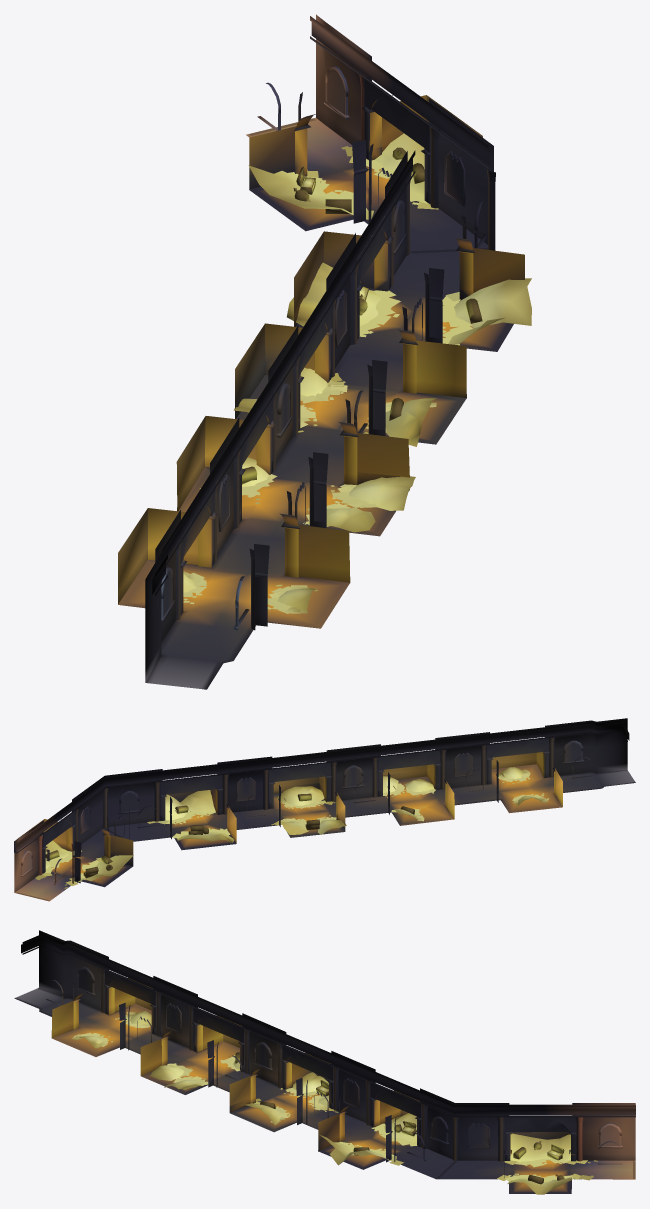
File: 15Hall.gltf
3 renders of one model, top to bottom at view 1: azimuth 30°, elevation 25°; view 2: azimuth 150°, elevation 25°; view 3: azimuth 270°, elevation 25°, orthographic. The views are drawn at different scales.
Visible parts, largest first — view 1: stg040_o49_Mesh_0010, stg040_o49_Mesh_0004, stg040_o49_Mesh_0009, stg040_o49_Mesh_0003, stg040_o49_Mesh_0011, stg040_o49_Mesh_0002, stg040_o49_Mesh_0008, stg040_o49_Mesh_0005, stg040_p49_Mesh_0000, stg040_o49_Mesh_0007, stg040_o49_Mesh_0006, stg040_o49_Mesh_0000; view 2: stg040_o49_Mesh_0010, stg040_o49_Mesh_0003, stg040_o49_Mesh_0009, stg040_o49_Mesh_0011, stg040_o49_Mesh_0005, stg040_o49_Mesh_0002, stg040_o49_Mesh_0008, stg040_o49_Mesh_0004, stg040_p49_Mesh_0000, stg040_o49_Mesh_0007, stg040_o49_Mesh_0006, stg040_o49_Mesh_0000; view 3: stg040_o49_Mesh_0010, stg040_o49_Mesh_0004, stg040_o49_Mesh_0009, stg040_o49_Mesh_0011, stg040_o49_Mesh_0002, stg040_o49_Mesh_0008, stg040_o49_Mesh_0005, stg040_o49_Mesh_0003, stg040_p49_Mesh_0000, stg040_o49_Mesh_0007, stg040_o49_Mesh_0006, stg040_o49_Mesh_0000.
Boxes of the visible parts, box(x1,y1,x2,y2) form: stg040_o49_Mesh_0010: box(118, 16, 513, 689); stg040_o49_Mesh_0004: box(118, 95, 473, 670); stg040_o49_Mesh_0009: box(126, 121, 507, 688); stg040_o49_Mesh_0003: box(179, 14, 524, 573); stg040_o49_Mesh_0011: box(163, 148, 459, 659); stg040_o49_Mesh_0002: box(183, 133, 531, 609); stg040_o49_Mesh_0008: box(161, 83, 495, 630); stg040_o49_Mesh_0005: box(175, 75, 495, 562); stg040_p49_Mesh_0000: box(183, 146, 472, 613); stg040_o49_Mesh_0007: box(161, 66, 487, 630); stg040_o49_Mesh_0006: box(181, 79, 465, 563); stg040_o49_Mesh_0000: box(242, 163, 482, 484); stg040_o49_Mesh_0010: box(14, 720, 635, 901); stg040_o49_Mesh_0003: box(14, 718, 627, 886); stg040_o49_Mesh_0009: box(19, 766, 634, 899); stg040_o49_Mesh_0011: box(36, 774, 599, 886); stg040_o49_Mesh_0005: box(38, 737, 555, 847); stg040_o49_Mesh_0002: box(45, 767, 542, 883); stg040_o49_Mesh_0008: box(21, 740, 582, 883); stg040_o49_Mesh_0004: box(14, 752, 562, 867); stg040_p49_Mesh_0000: box(35, 769, 548, 888); stg040_o49_Mesh_0007: box(20, 740, 593, 885); stg040_o49_Mesh_0006: box(43, 738, 548, 847); stg040_o49_Mesh_0000: box(45, 793, 414, 878); stg040_o49_Mesh_0010: box(14, 933, 635, 1193); stg040_o49_Mesh_0004: box(39, 930, 635, 1154); stg040_o49_Mesh_0009: box(17, 989, 632, 1192); stg040_o49_Mesh_0011: box(43, 1000, 593, 1177); stg040_o49_Mesh_0002: box(79, 1011, 572, 1194); stg040_o49_Mesh_0008: box(62, 972, 621, 1161); stg040_o49_Mesh_0005: box(74, 968, 583, 1132); stg040_o49_Mesh_0003: box(51, 990, 576, 1171); stg040_p49_Mesh_0000: box(71, 1012, 597, 1182); stg040_o49_Mesh_0007: box(46, 967, 622, 1164); stg040_o49_Mesh_0006: box(105, 968, 576, 1166); stg040_o49_Mesh_0000: box(235, 1052, 564, 1184).
Bounding box in the file's own units: 77.28 × 10.06 × 98.01.
